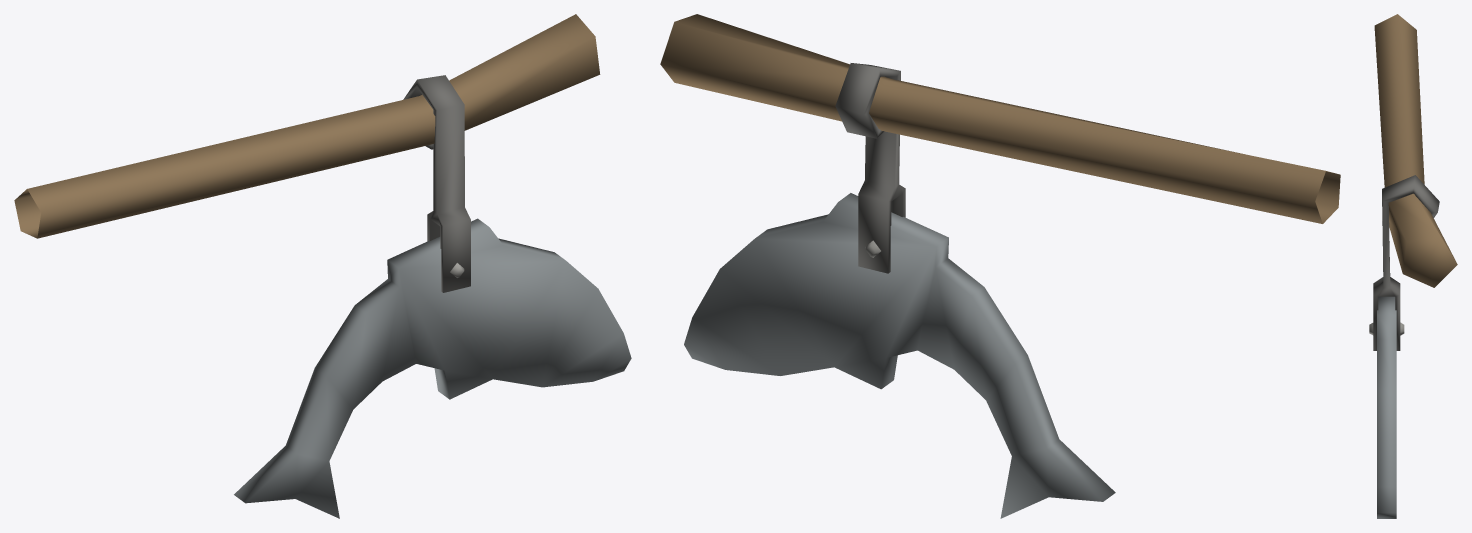
The model's file is rpgpp_ag_bld_sign_03.fbx.
3 views of the same model, side by side, from view 1: azimuth 30°, elevation 25°; view 2: azimuth 150°, elevation 25°; view 3: azimuth 270°, elevation 25° (orthographic). The views are drawn at different scales.
Parts seen in each view (by area): view 1: rpgpp_ag_bld_sign_03; view 2: rpgpp_ag_bld_sign_03; view 3: rpgpp_ag_bld_sign_03.
Part boxes in pixels (x1,y1,x2,y2): rpgpp_ag_bld_sign_03: (14, 14, 631, 518); rpgpp_ag_bld_sign_03: (660, 14, 1340, 518); rpgpp_ag_bld_sign_03: (1369, 14, 1457, 518).
Bounding box in the file's own units: 1.25 × 0.8221 × 0.1913.
